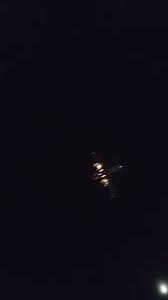Plane: (74, 144, 141, 211)
